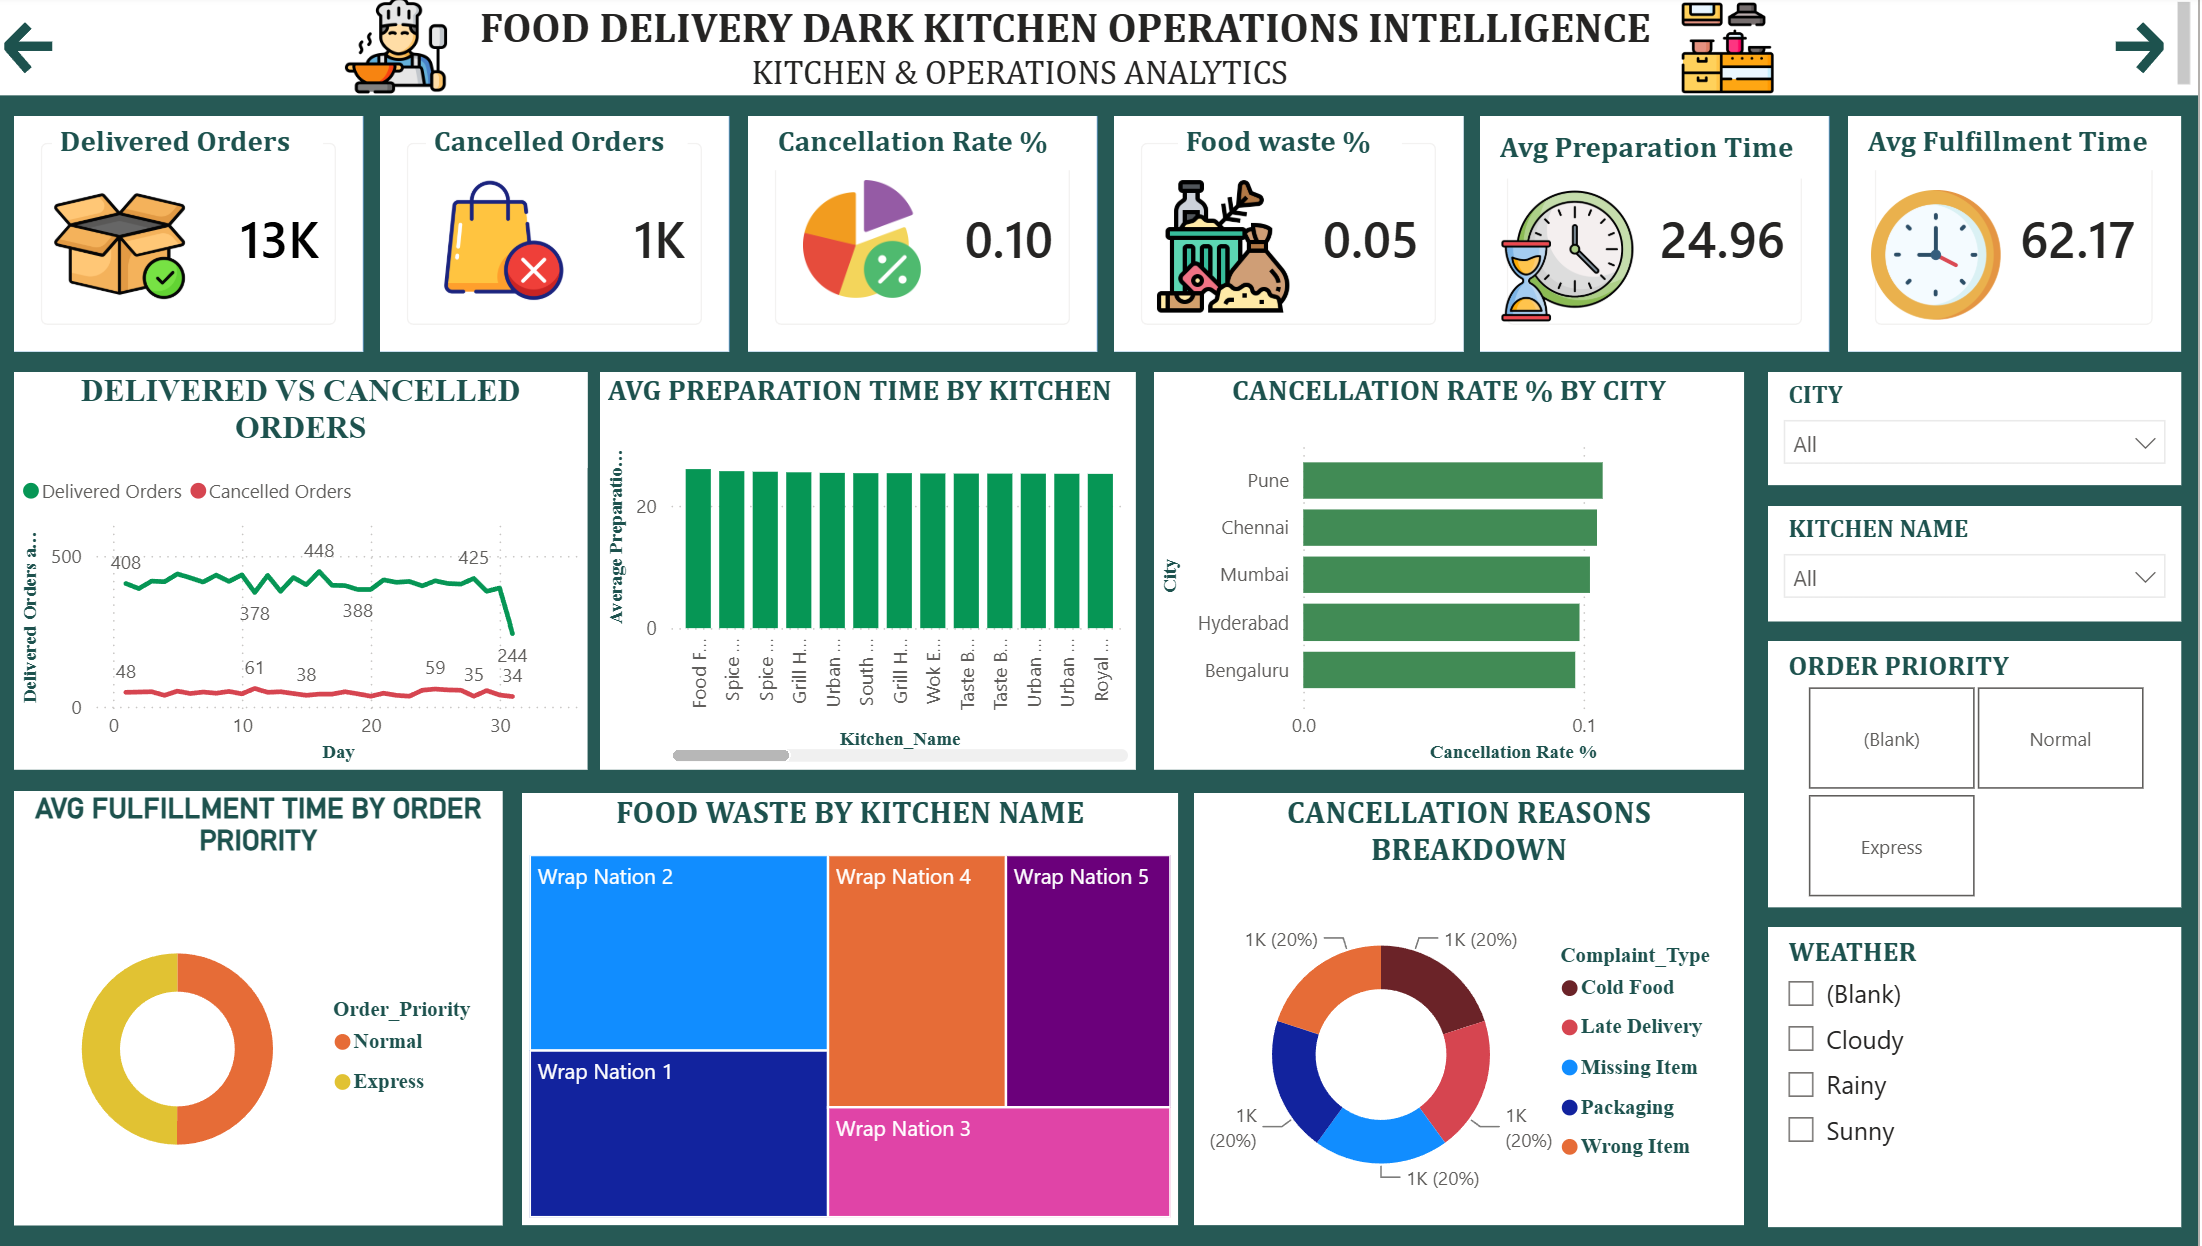

The page's visual inventory and layout, read from the dashboard file:
{"tool":"powerbi","page":{"name":"Kitchen & Operation Analytics ","canvas":[1400,800],"ordinal":1},"visuals":[{"type":"textbox","box":[0,0,1400,64.6],"z":0},{"type":"shape","box":[10.5,78.1,222.3,150.2],"z":1000},{"type":"shape","box":[243.3,78.1,222.3,150.2],"z":2000},{"type":"shape","box":[1177.7,78.1,211.8,150.2],"z":3000},{"type":"shape","box":[477.7,78.1,222.3,150.2],"z":4000},{"type":"shape","box":[710.5,78.1,222.3,150.2],"z":5000},{"type":"shape","box":[943.3,78.1,222.3,150.2],"z":6000},{"type":"cardVisual","fields":{"Data":["DB 2 Measures.Delivered Orders"]},"box":[10.5,78.1,222,150],"z":7000},{"type":"cardVisual","fields":{"Data":["DB 2 Measures.Cancelled Orders"]},"box":[243.3,78.1,222,150],"z":8000},{"type":"cardVisual","fields":{"Data":["DB 2 Measures.Cancellation Rate %"]},"box":[477.7,78.1,222,150],"z":9000},{"type":"cardVisual","fields":{"Data":["DB 2 Measures.Food Waste %"]},"box":[710.5,78.1,222.3,150.2],"z":10000},{"type":"cardVisual","fields":{"Data":["DB 2 Measures.Average Preparation Time"]},"box":[943.3,78.1,222,150],"z":11000},{"type":"cardVisual","fields":{"Data":["DB 2 Measures.Average Fulfillment Time"]},"box":[1177.7,78.1,211.8,150.2],"z":12000},{"type":"textbox","box":[34.5,78.1,172.7,33],"z":13000},{"type":"textbox","box":[271.9,78.1,166.7,34.5],"z":14000},{"type":"textbox","box":[491.2,78.1,196.8,34.5],"z":15000},{"type":"textbox","box":[751.1,78.1,142.7,39.1],"z":16000},{"type":"textbox","box":[950.9,81.1,207.3,36.1],"z":17000},{"type":"textbox","box":[1185.2,78.1,196.8,34.5],"z":18000},{"type":"image","box":[33,112.7,88.6,94.6],"z":19000},{"type":"image","box":[271.9,112.7,99.1,87.1],"z":20000},{"type":"image","box":[491.2,118.7,117.2,75.1],"z":21000},{"type":"image","box":[724,117.2,111.2,87.1],"z":22000},{"type":"image","box":[950.9,124.7,96.1,84.1],"z":23000},{"type":"image","box":[1185.2,124.7,96.1,82.6],"z":24000},{"type":"lineChart","title":"DELIVERED VS CANCELLED ORDERS ","fields":{"Category":["orders.Order_Date.Variation.Date Hierarchy.Day"],"Y":["DB 2 Measures.Delivered Orders","DB 2 Measures.Cancelled Orders"]},"box":[10.5,240.3,365,252.4],"z":25000},{"type":"clusteredBarChart","title":"CANCELLATION RATE  % BY CITY","fields":{"Y":["DB 2 Measures.Cancellation Rate %"],"Category":["customers.City"]},"box":[736.1,240.3,375.5,252.4],"z":26000},{"type":"columnChart","title":"AVG PREPARATION TIME BY KITCHEN","fields":{"Category":["kitchens.Kitchen_Name"],"Y":["DB 2 Measures.Average Preparation Time"]},"box":[383,240.3,341,252.4],"z":27000},{"type":"donutChart","title":"AVG FULFILLMENT TIME BY ORDER PRIORITY","fields":{"Category":["orders.Order_Priority"],"Y":["DB 2 Measures.Average Fulfillment Time"]},"box":[10.5,506.2,310.9,276.4],"z":28000},{"type":"treemap","title":"FOOD WASTE BY KITCHEN NAME","fields":{"Group":["kitchens.Kitchen_Name"],"Values":["DB 2 Measures.Total Food Waste"]},"box":[333.5,507.7,417.6,274.9],"z":29000},{"type":"donutChart","title":"CANCELLATION REASONS BREAKDOWN","fields":{"Category":["complaints.Complaint_Type"],"Y":["DB 2 Measures.Cancelled Orders"]},"box":[761.6,507.7,350,274.9],"z":30000},{"type":"slicer","fields":{"Values":["customers.City"]},"box":[1126.6,240.3,262.9,72.1],"z":31000},{"type":"slicer","fields":{"Values":["kitchens.Kitchen_Name"]},"box":[1126.6,326,262.9,73.6],"z":32000},{"type":"slicer","fields":{"Values":["orders.Order_Priority"]},"box":[1126.6,411.6,262.9,169.7],"z":33000},{"type":"slicer","fields":{"Values":["orders.Weather"]},"box":[1126.6,593.3,262.9,190.8],"z":34000},{"type":"actionButton","box":[1323.4,13.5,58.6,40.6],"z":35000},{"type":"actionButton","box":[0,13.5,100.6,40.6],"z":36000},{"type":"image","box":[211.3,0,84,64.9],"z":37000},{"type":"image","box":[1047.5,5.1,106.9,58.5],"z":38000}]}

Visuals, with their boxes in screenshot pixels (x1, y1, x2, y2), scaled from the page's 1400x800 canvas onto the 2202x1246 screenshot:
textbox: (x1=0, y1=0, x2=2201, y2=101)
shape: (x1=17, y1=122, x2=366, y2=356)
shape: (x1=383, y1=122, x2=732, y2=356)
shape: (x1=1852, y1=122, x2=2185, y2=356)
shape: (x1=751, y1=122, x2=1101, y2=356)
shape: (x1=1118, y1=122, x2=1467, y2=356)
shape: (x1=1484, y1=122, x2=1833, y2=356)
cardVisual - DB 2 Measures.Delivered Orders: (x1=17, y1=122, x2=366, y2=355)
cardVisual - DB 2 Measures.Cancelled Orders: (x1=383, y1=122, x2=732, y2=355)
cardVisual - DB 2 Measures.Cancellation Rate %: (x1=751, y1=122, x2=1101, y2=355)
cardVisual - DB 2 Measures.Food Waste %: (x1=1118, y1=122, x2=1467, y2=356)
cardVisual - DB 2 Measures.Average Preparation Time: (x1=1484, y1=122, x2=1833, y2=355)
cardVisual - DB 2 Measures.Average Fulfillment Time: (x1=1852, y1=122, x2=2185, y2=356)
textbox: (x1=54, y1=122, x2=326, y2=173)
textbox: (x1=428, y1=122, x2=690, y2=175)
textbox: (x1=773, y1=122, x2=1082, y2=175)
textbox: (x1=1181, y1=122, x2=1406, y2=183)
textbox: (x1=1496, y1=126, x2=1822, y2=183)
textbox: (x1=1864, y1=122, x2=2174, y2=175)
image: (x1=52, y1=176, x2=191, y2=323)
image: (x1=428, y1=176, x2=584, y2=311)
image: (x1=773, y1=185, x2=957, y2=302)
image: (x1=1139, y1=183, x2=1314, y2=318)
image: (x1=1496, y1=194, x2=1647, y2=325)
image: (x1=1864, y1=194, x2=2015, y2=323)
"DELIVERED VS CANCELLED ORDERS " lineChart: (x1=17, y1=374, x2=591, y2=767)
"CANCELLATION RATE  % BY CITY" clusteredBarChart: (x1=1158, y1=374, x2=1748, y2=767)
"AVG PREPARATION TIME BY KITCHEN" columnChart: (x1=602, y1=374, x2=1139, y2=767)
"AVG FULFILLMENT TIME BY ORDER PRIORITY" donutChart: (x1=17, y1=788, x2=506, y2=1219)
"FOOD WASTE BY KITCHEN NAME" treemap: (x1=525, y1=791, x2=1181, y2=1219)
"CANCELLATION REASONS BREAKDOWN" donutChart: (x1=1198, y1=791, x2=1748, y2=1219)
slicer - customers.City: (x1=1772, y1=374, x2=2185, y2=487)
slicer - kitchens.Kitchen_Name: (x1=1772, y1=508, x2=2185, y2=622)
slicer - orders.Order_Priority: (x1=1772, y1=641, x2=2185, y2=905)
slicer - orders.Weather: (x1=1772, y1=924, x2=2185, y2=1221)
actionButton: (x1=2082, y1=21, x2=2174, y2=84)
actionButton: (x1=0, y1=21, x2=158, y2=84)
image: (x1=332, y1=0, x2=464, y2=101)
image: (x1=1648, y1=8, x2=1816, y2=99)
